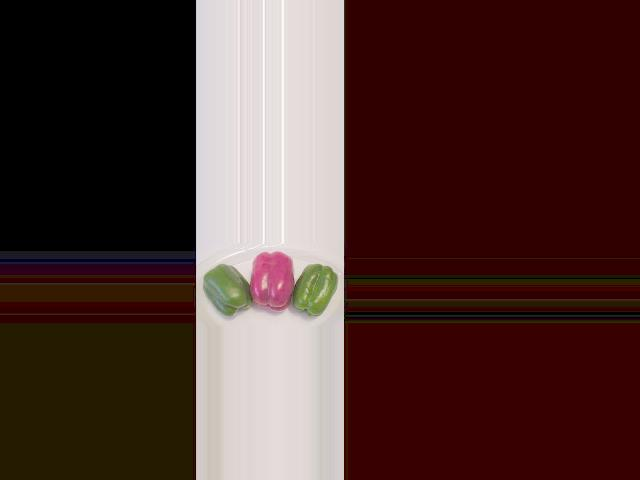bell_pepper: (200, 257, 252, 321)
